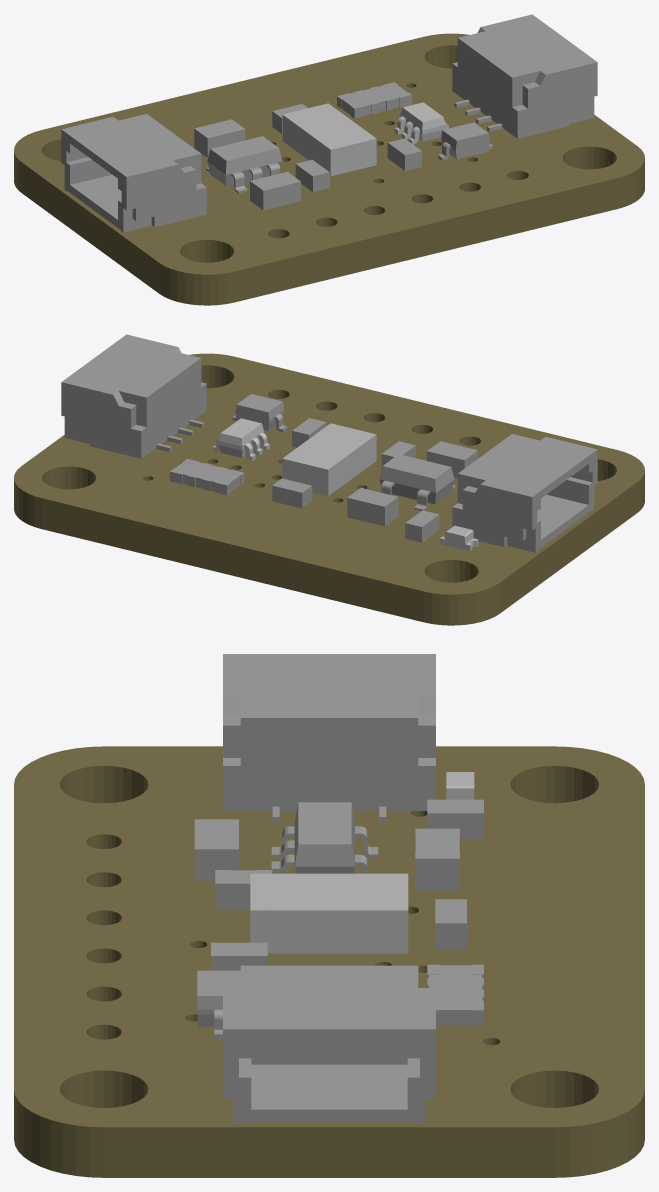
Rendered from adafruit-5396-vl53l4cd.glb.
3 renders of one model, top to bottom at view 1: azimuth 30°, elevation 25°; view 2: azimuth 150°, elevation 25°; view 3: azimuth 270°, elevation 25°, orthographic. The views are drawn at different scales.
Parts seen in each view (by area): view 1: colour 1, colour 3, colour 2, colour 4; view 2: colour 1, colour 3, colour 2, colour 4; view 3: colour 1, colour 3, colour 2.
Boxes of the visible parts, x1,y1,x2,y2 form: colour 1: (14,33,644,305); colour 3: (61,14,597,232); colour 2: (282,103,376,176); colour 4: (394,102,448,144); colour 1: (14,353,644,625); colour 3: (61,334,597,552); colour 2: (282,423,478,551); colour 4: (213,418,269,460); colour 1: (14,746,644,1177); colour 3: (194,654,483,1124); colour 2: (250,772,474,953).
Bounding box in the file's own units: 0.0254 × 0.00453 × 0.0178.
